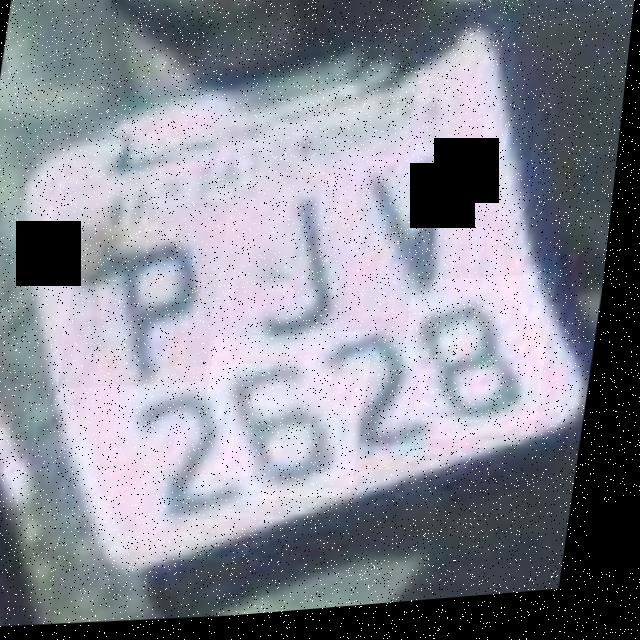2: (76, 360, 304, 564), (293, 301, 466, 484)
6: (202, 331, 383, 512)
8: (400, 279, 565, 454)
J: (218, 172, 383, 354)
P: (66, 200, 236, 395)
